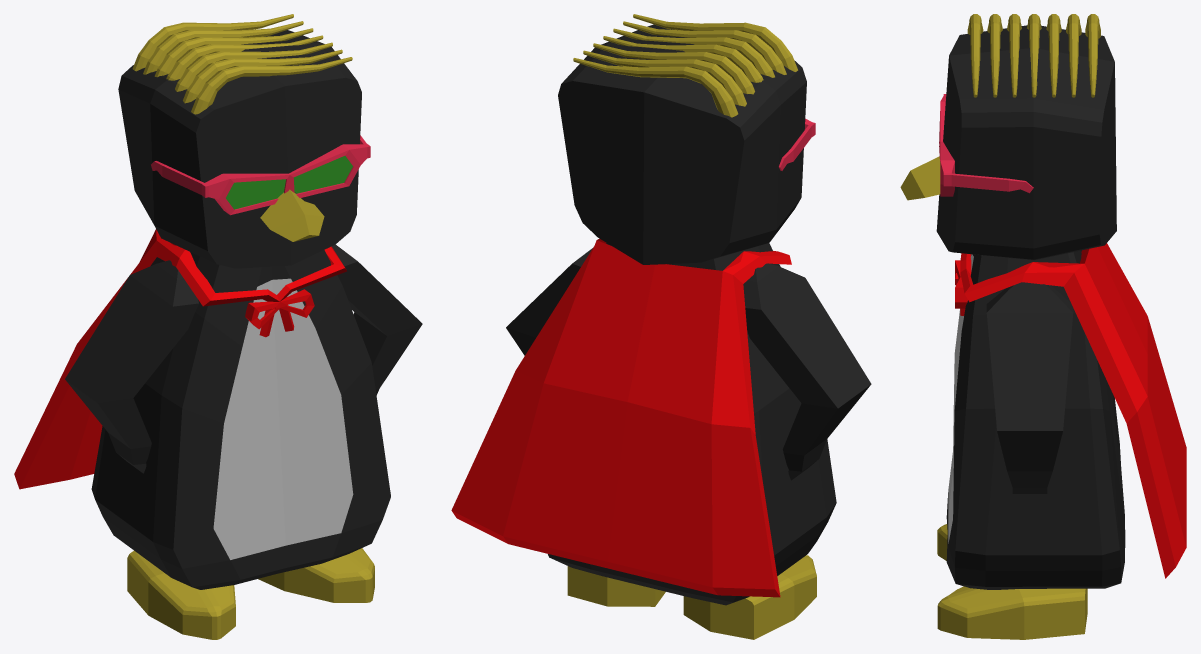
Rendered from pINGUIM.fbx.
The picture shows the model from 3 angles, left to right: view 1: azimuth 30°, elevation 25°; view 2: azimuth 150°, elevation 25°; view 3: azimuth 270°, elevation 25°; orthographic projection. The views are drawn at different scales.
Visible parts, largest first — view 1: Pe E.001; view 2: Pe E.001; view 3: Pe E.001.
Boxes of the visible parts, x1,y1,x2,y2 form: Pe E.001: [14, 14, 422, 639]; Pe E.001: [451, 14, 871, 639]; Pe E.001: [900, 14, 1186, 639].
Bounding box in the file's own units: 56.99 × 92 × 43.2.
